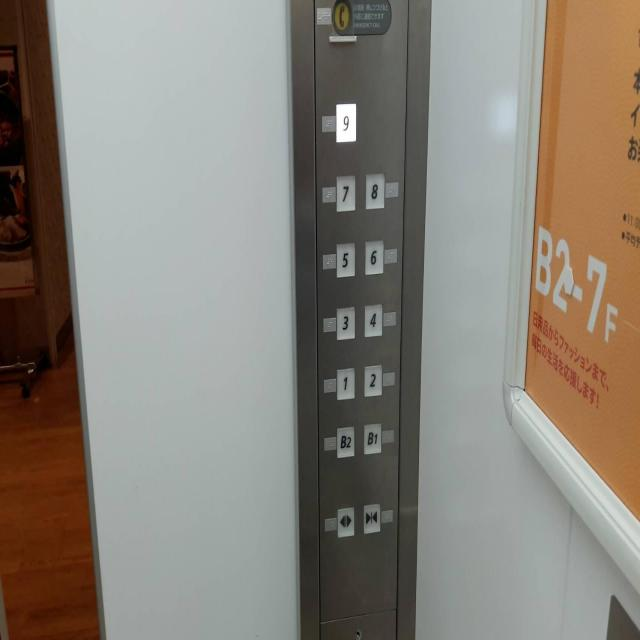1: (336, 366, 356, 402)
2: (363, 363, 382, 397)
3: (336, 304, 356, 341)
4: (362, 302, 383, 338)
5: (335, 241, 355, 279)
6: (364, 238, 384, 276)
7: (335, 172, 356, 213)
8: (364, 170, 385, 210)
9: (335, 102, 357, 144)
B1: (362, 421, 382, 455)
B2: (336, 424, 354, 458)
call: (330, 0, 354, 35)
close: (362, 501, 381, 534)
open: (336, 504, 355, 538)
